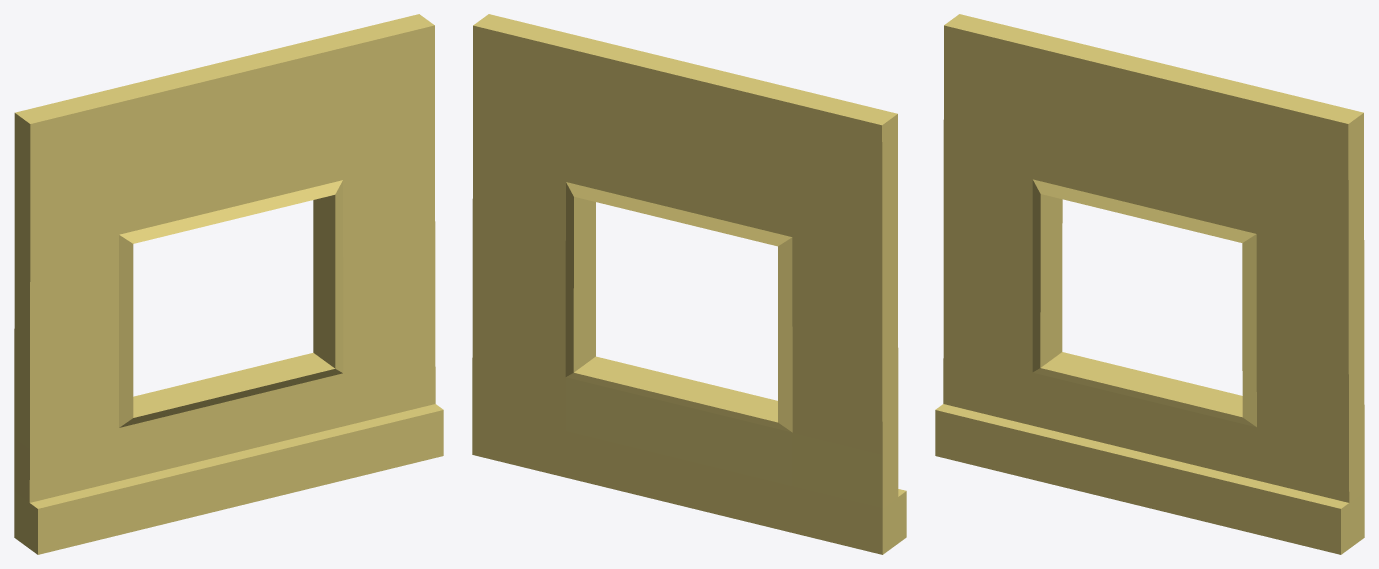
Rendered from env_paredeJanela.fbx.
3 views of the same model, side by side, from view 1: azimuth 30°, elevation 25°; view 2: azimuth 150°, elevation 25°; view 3: azimuth 330°, elevation 25° (orthographic).
Visible parts, largest first — view 1: env_paredeJanela; view 2: env_paredeJanela; view 3: env_paredeJanela.
Boxes of the visible parts, x1,y1,x2,y2 form: env_paredeJanela: [14, 14, 443, 554]; env_paredeJanela: [472, 14, 906, 554]; env_paredeJanela: [935, 14, 1364, 554].
Size of the model in its own units: 1000 by 1000 by 115.
